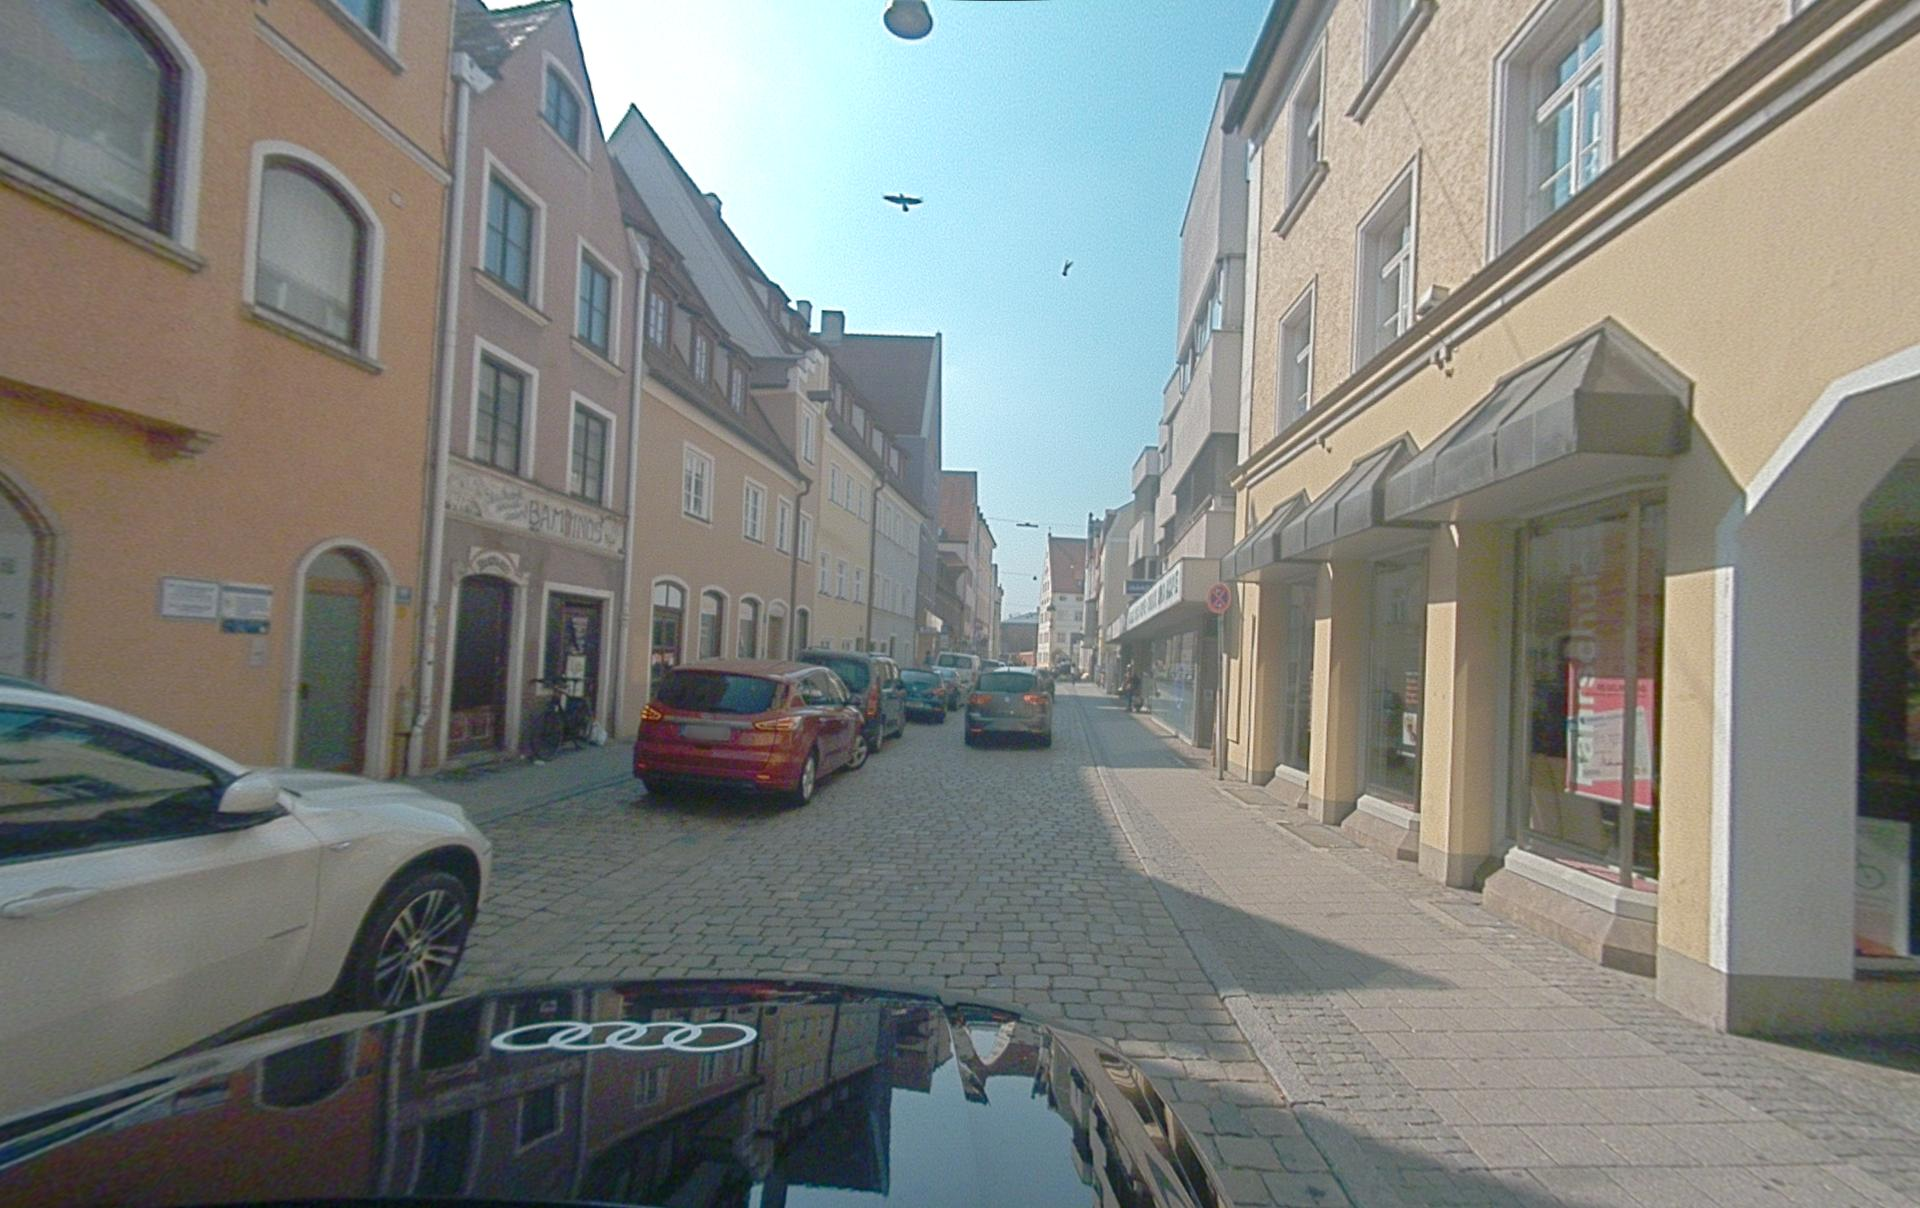car: (0, 672, 493, 1129), (633, 657, 868, 806), (796, 647, 907, 753), (964, 665, 1055, 747), (899, 667, 949, 724), (932, 668, 961, 710)
